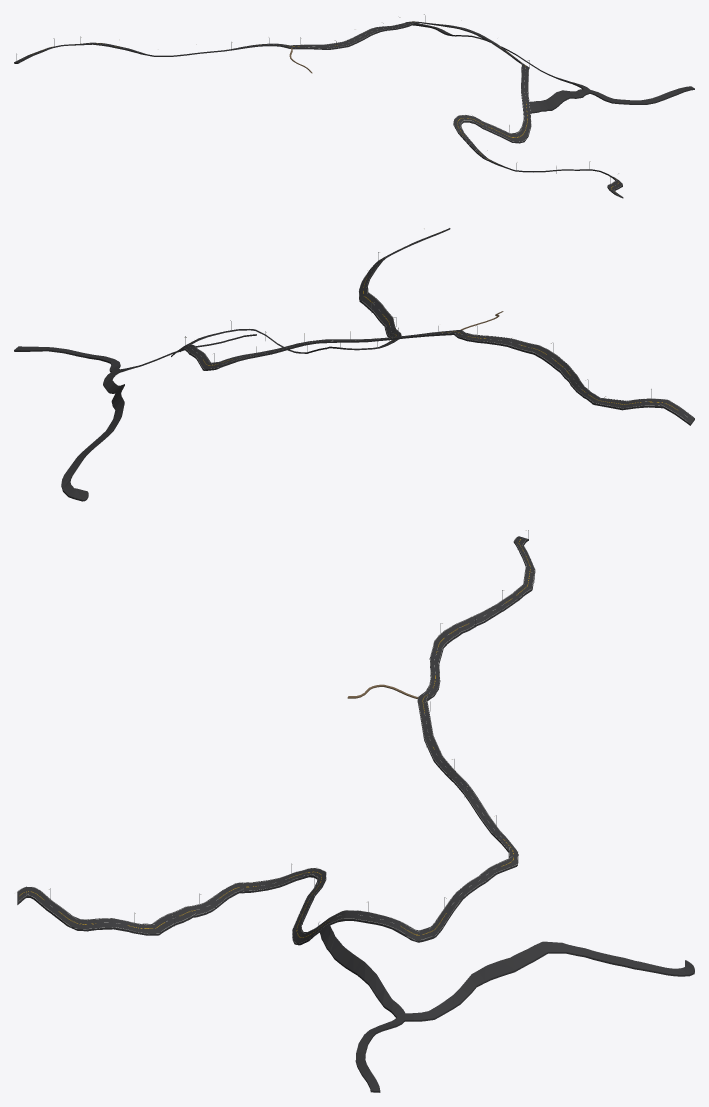
Rendered from 16-54737-29723.56fdca7a.glb.
3 renders of one model, top to bottom at view 1: azimuth 30°, elevation 25°; view 2: azimuth 150°, elevation 25°; view 3: azimuth 270°, elevation 25°, orthographic. The views are drawn at different scales.
Size of the model in its own units: 586 by 137 by 439.
